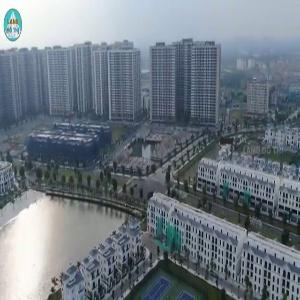drone: (197, 110, 263, 176)
